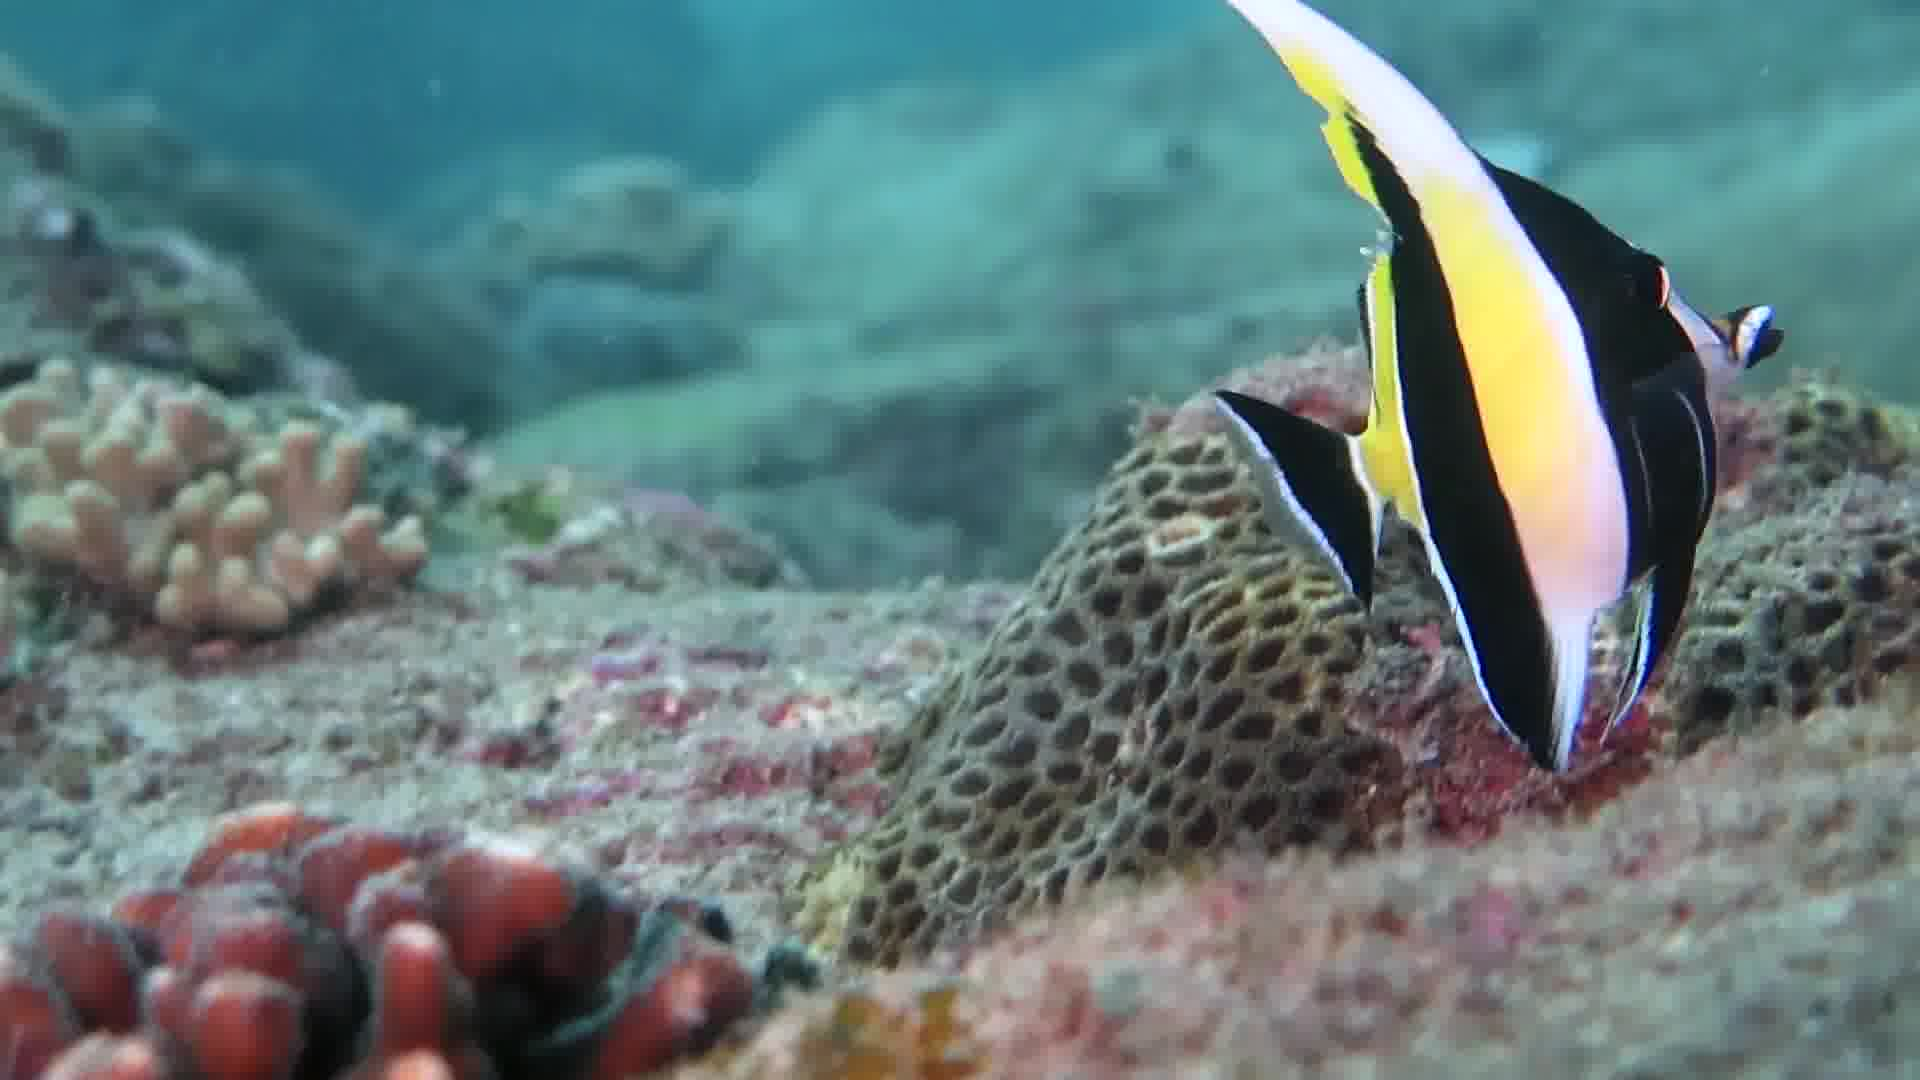Zanclus cornutus: (1218, 100, 1797, 758)
